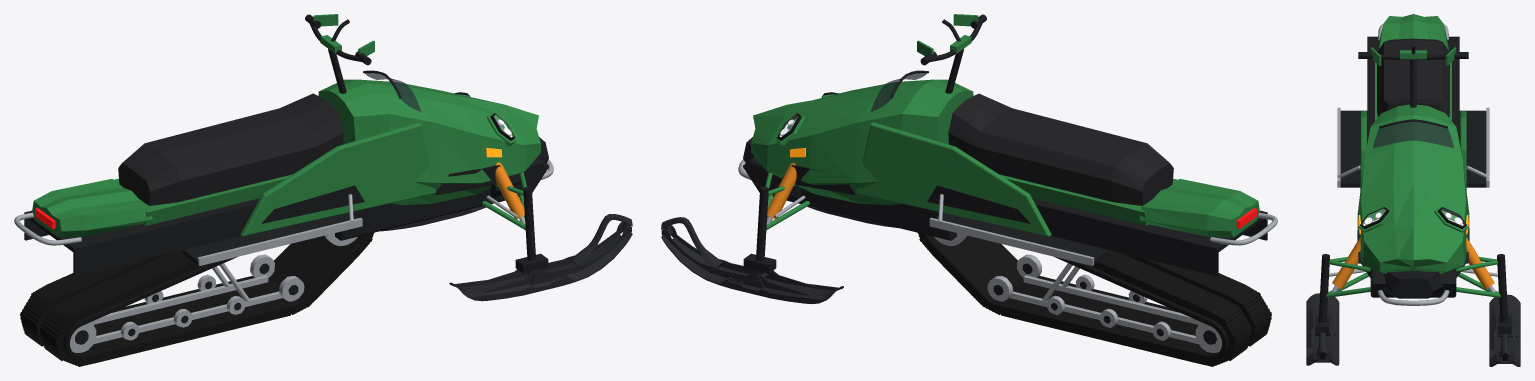
The model's file is quad_sled800.glb.
3 renders of one model, left to right at view 1: azimuth 30°, elevation 25°; view 2: azimuth 150°, elevation 25°; view 3: azimuth 270°, elevation 25°, orthographic. The views are drawn at different scales.
Parts seen in each view (by area): view 1: hood, seat, side_intake_left, headlight_surround_left, track, idler_front_wheel_left, ski_left, headlight_projector_ring_high_left, track_lug_0l_p5, track_lug_0l_p3, track_lug_0l_p1, track_lug_0l_p2 (+8 smaller); view 2: hood, seat, side_intake_left, headlight_surround_left, track, idler_front_wheel_left, ski_right, headlight_projector_ring_high_left, track_lug_0l_p5, track_lug_0l_p3, track_lug_0l_p1, track_lug_0l_p2 (+8 smaller); view 3: hood, side_intake_left, seat, headlight_surround_left, ski_left, ski_right, headlight_projector_ring_high_left, front_fascia, windshield, shock_spring_left, steering_post, ski_saddle_right (+4 smaller).
Part boxes in pixels (left/top/right/bottom): hood: left=32, top=79, right=540, bottom=237; seat: left=118, top=93, right=343, bottom=205; side_intake_left: left=24, top=70, right=548, bottom=276; headlight_surround_left: left=240, top=94, right=526, bottom=236; track: left=63, top=233, right=370, bottom=360; idler_front_wheel_left: left=70, top=254, right=304, bottom=352; ski_left: left=449, top=214, right=632, bottom=301; headlight_projector_ring_high_left: left=14, top=119, right=553, bottom=265; track_lug_0l_p5: left=20, top=234, right=372, bottom=365; track_lug_0l_p3: left=22, top=245, right=365, bottom=364; track_lug_0l_p1: left=22, top=240, right=370, bottom=365; track_lug_0l_p2: left=22, top=242, right=368, bottom=364; hood: left=751, top=79, right=1259, bottom=237; seat: left=948, top=93, right=1173, bottom=205; side_intake_left: left=743, top=70, right=1267, bottom=276; headlight_surround_left: left=765, top=94, right=1051, bottom=236; track: left=921, top=233, right=1228, bottom=360; idler_front_wheel_left: left=987, top=254, right=1221, bottom=352; ski_right: left=661, top=217, right=843, bottom=303; headlight_projector_ring_high_left: left=738, top=119, right=1277, bottom=265; track_lug_0l_p5: left=919, top=234, right=1271, bottom=365; track_lug_0l_p3: left=926, top=245, right=1269, bottom=364; track_lug_0l_p1: left=921, top=239, right=1270, bottom=365; track_lug_0l_p2: left=923, top=242, right=1269, bottom=364; hood: left=1357, top=14, right=1469, bottom=274; side_intake_left: left=1340, top=36, right=1486, bottom=297; seat: left=1377, top=38, right=1449, bottom=117; headlight_surround_left: left=1326, top=111, right=1500, bottom=297; ski_left: left=1306, top=293, right=1339, bottom=365; ski_right: left=1489, top=294, right=1520, bottom=366; headlight_projector_ring_high_left: left=1329, top=24, right=1497, bottom=305; front_fascia: left=1361, top=262, right=1465, bottom=298; windshield: left=1373, top=121, right=1453, bottom=148; shock_spring_left: left=1332, top=237, right=1494, bottom=288; steering_post: left=1358, top=43, right=1468, bottom=107; ski_saddle_right: left=1497, top=254, right=1511, bottom=334.
Size of the model in its own units: 3.32 by 1.5 by 1.2.
